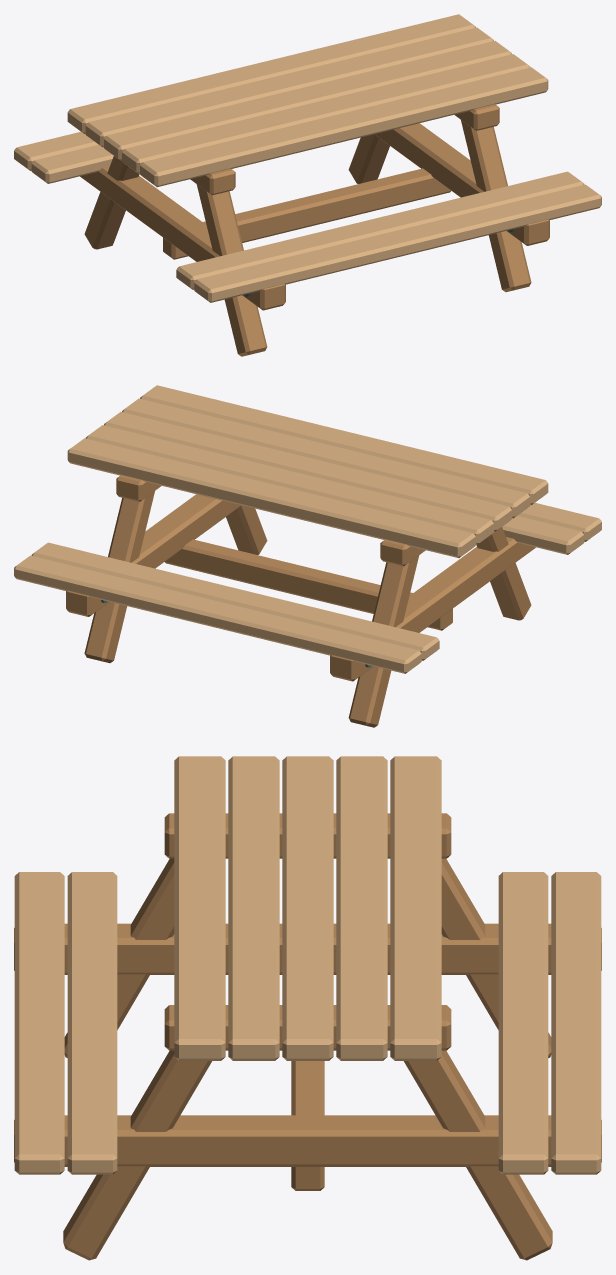
3 renders of one model, top to bottom at view 1: azimuth 30°, elevation 25°; view 2: azimuth 150°, elevation 25°; view 3: azimuth 270°, elevation 25°, orthographic. The views are drawn at different scales.
Parts seen in each view (by area): view 1: camping-table-01; view 2: camping-table-01; view 3: camping-table-01.
Boxes of the visible parts, bbox=[...] form: camping-table-01: bbox=[14, 14, 601, 356]; camping-table-01: bbox=[14, 385, 601, 727]; camping-table-01: bbox=[14, 756, 601, 1260].
Bounding box in the file's own units: 1.82 × 0.7744 × 1.58.
